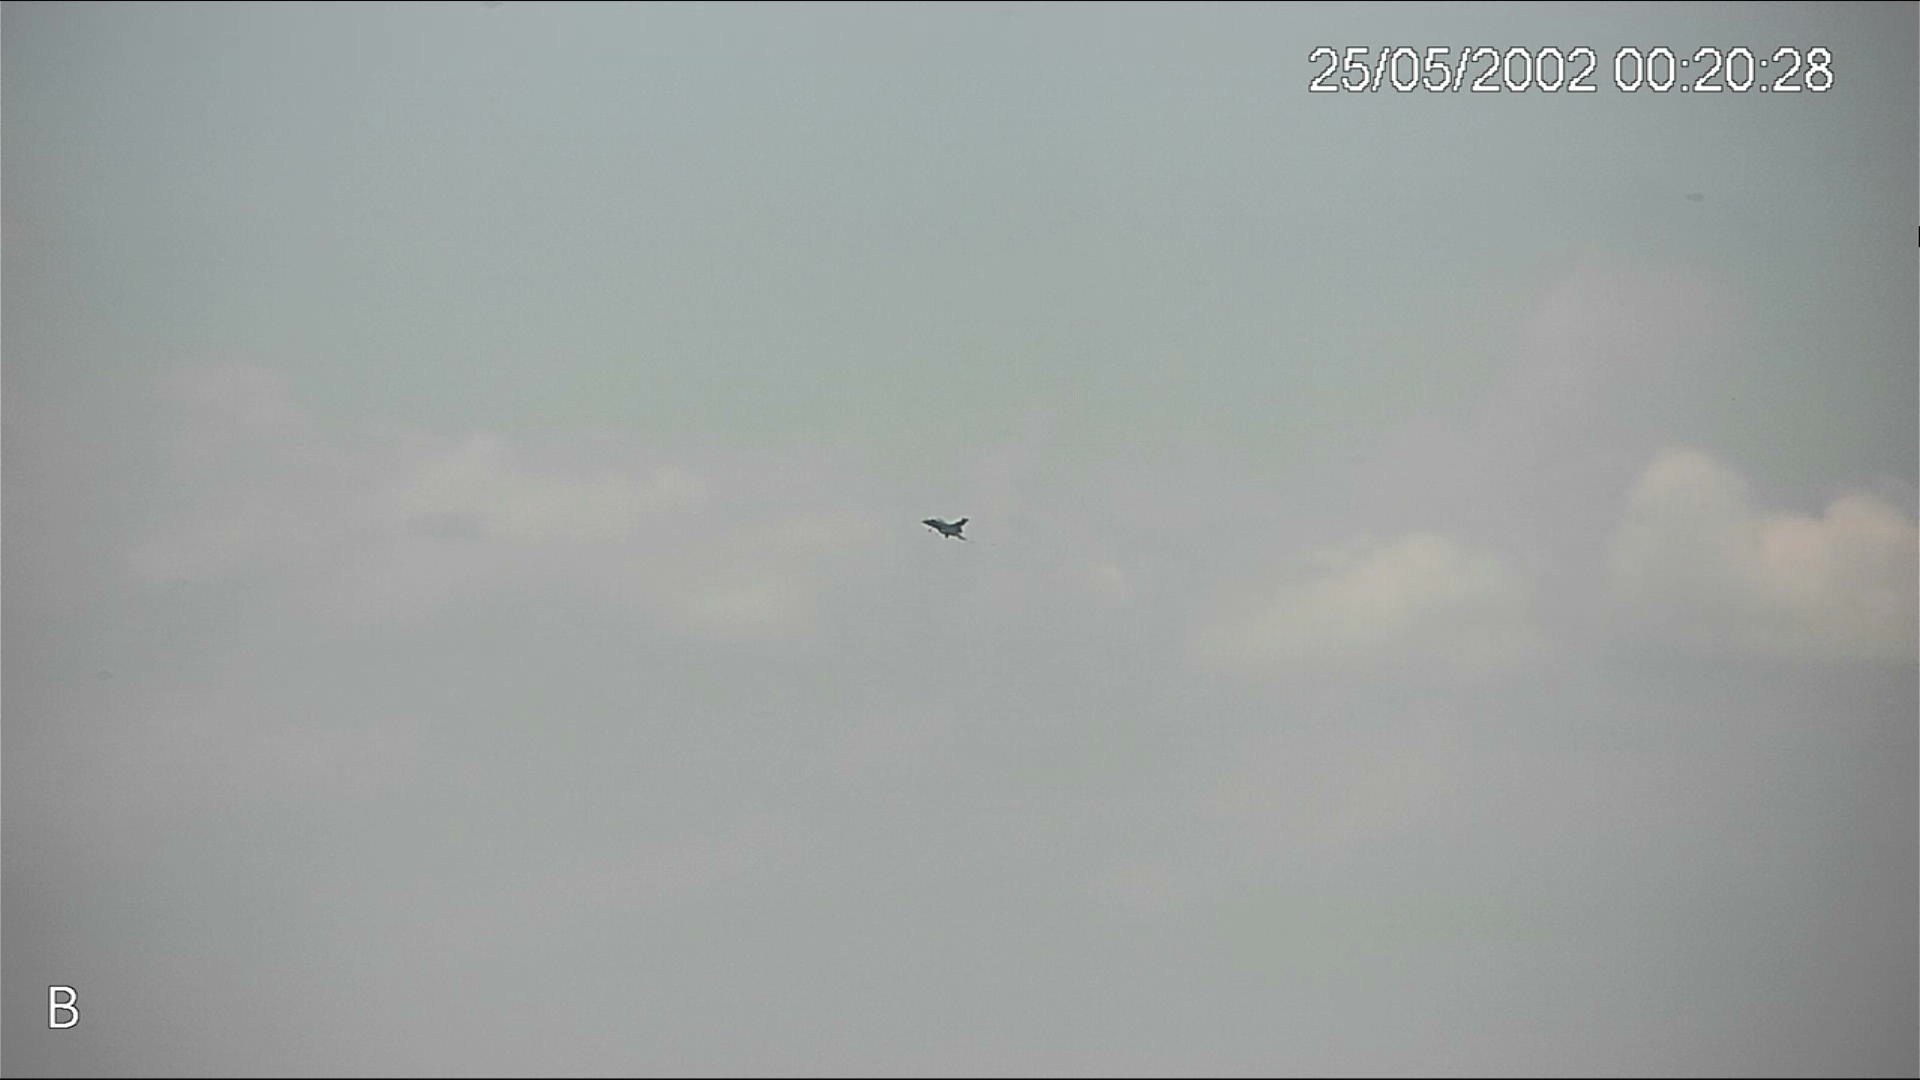SU_30: (920, 516, 973, 541)
